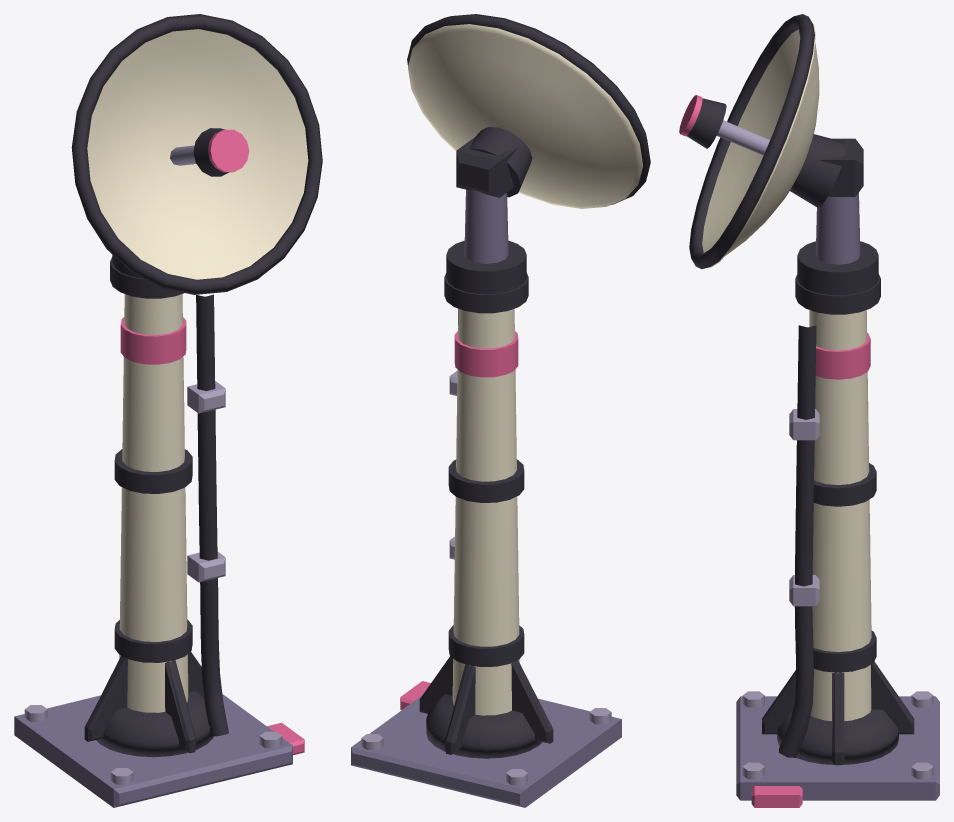
File: antenna_standard.glb
3 views of the same model, side by side, from view 1: azimuth 30°, elevation 25°; view 2: azimuth 150°, elevation 25°; view 3: azimuth 270°, elevation 25° (orthographic). The views are drawn at different scales.
Visible parts, largest first — view 1: dish_creamHull, mast_creamHull, mast_graphite, plate_purpleGrey, dish_graphite, plate_purpleGreyLight, plate_pink, dish_pink; view 2: dish_creamHull, mast_creamHull, mast_graphite, plate_purpleGrey, dish_graphite, yoke_graphite, yoke_purpleGrey, plate_pink, plate_purpleGreyLight; view 3: mast_graphite, mast_creamHull, plate_purpleGrey, dish_graphite, dish_creamHull, yoke_graphite, plate_purpleGreyLight, yoke_purpleGrey, plate_pink, dish_purpleGreyLight, dish_pink.
Boxes of the visible parts, x1,y1,x2,y2 form: dish_creamHull: (87, 29, 308, 279); mast_creamHull: (119, 294, 188, 712); mast_graphite: (84, 257, 228, 757); plate_purpleGrey: (14, 694, 292, 807); dish_graphite: (71, 14, 322, 294); plate_purpleGreyLight: (24, 381, 282, 784); plate_pink: (120, 317, 304, 754); dish_pink: (207, 129, 249, 172); dish_creamHull: (408, 24, 643, 208); mast_creamHull: (452, 308, 519, 715); mast_graphite: (419, 273, 553, 758); plate_purpleGrey: (351, 695, 621, 807); dish_graphite: (407, 14, 650, 204); yoke_graphite: (446, 138, 526, 294); yoke_purpleGrey: (464, 189, 508, 263); plate_pink: (400, 331, 518, 710); plate_purpleGreyLight: (361, 371, 611, 785); mast_graphite: (762, 274, 914, 765); mast_creamHull: (809, 310, 871, 721); plate_purpleGrey: (736, 696, 939, 800); dish_graphite: (687, 14, 846, 269); dish_creamHull: (702, 24, 819, 267); yoke_graphite: (797, 138, 878, 295); plate_purpleGreyLight: (742, 409, 933, 779); yoke_purpleGrey: (815, 192, 860, 264); plate_pink: (751, 332, 870, 807); dish_purpleGreyLight: (716, 120, 769, 155); dish_pink: (679, 95, 702, 136).
Bounding box in the file's own units: 0.272 × 0.7916 × 0.2563.
